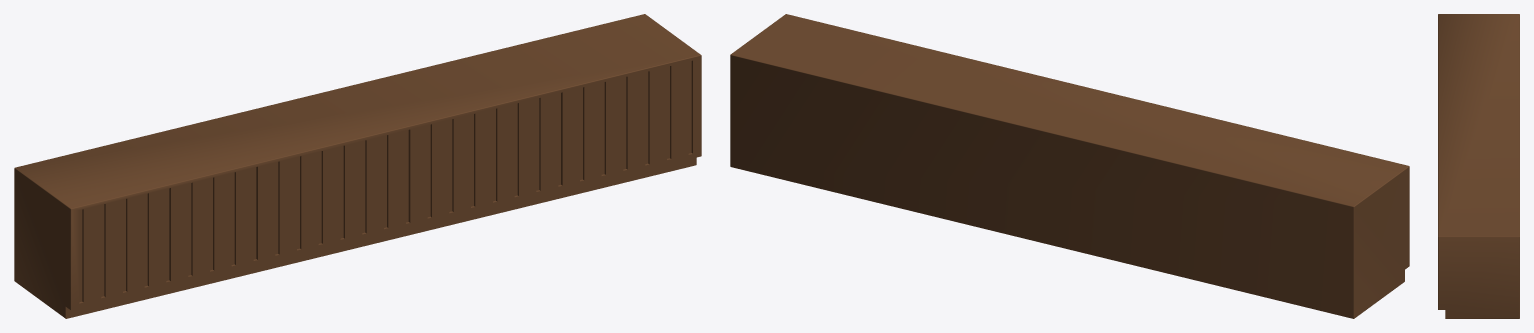
The model's file is DeskBody.fbx.
3 renders of one model, left to right at view 1: azimuth 30°, elevation 25°; view 2: azimuth 150°, elevation 25°; view 3: azimuth 270°, elevation 25°, orthographic. The views are drawn at different scales.
Visible parts, largest first — view 1: DeskBody; view 2: DeskBody; view 3: DeskBody.
Part boxes in pixels (x1=…): DeskBody: x1=14, y1=14, x2=701, y2=318; DeskBody: x1=730, y1=14, x2=1409, y2=318; DeskBody: x1=1438, y1=14, x2=1519, y2=318.
Bounding box in the file's own units: 0.58 × 0.1 × 0.09.
